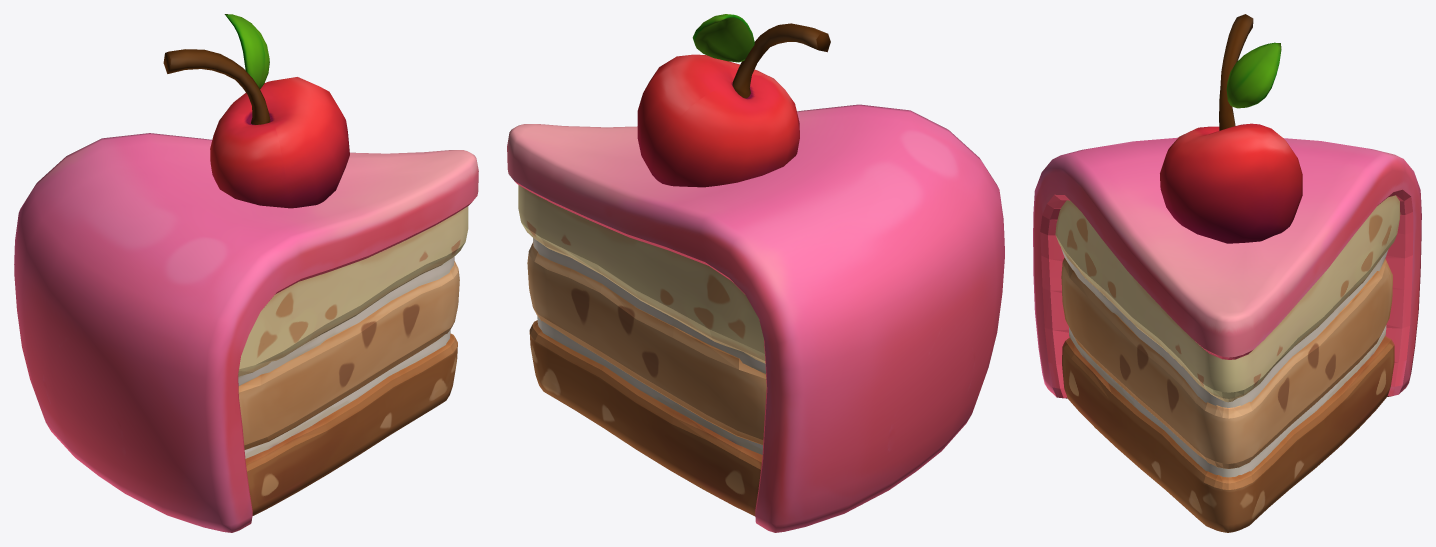
Rendered from SanJiaoDanGao.FBX.
3 views of the same model, side by side, from view 1: azimuth 30°, elevation 25°; view 2: azimuth 150°, elevation 25°; view 3: azimuth 270°, elevation 25° (orthographic). The views are drawn at different scales.
Parts seen in each view (by area): view 1: SanJiaoDanGao; view 2: SanJiaoDanGao; view 3: SanJiaoDanGao.
Part boxes in pixels (left/top/right/bottom): SanJiaoDanGao: left=14, top=14, right=478, bottom=532; SanJiaoDanGao: left=507, top=14, right=1004, bottom=532; SanJiaoDanGao: left=1033, top=14, right=1421, bottom=532.
Size of the model in its own units: 121 by 116 by 102.
1 material, 1 textured.
